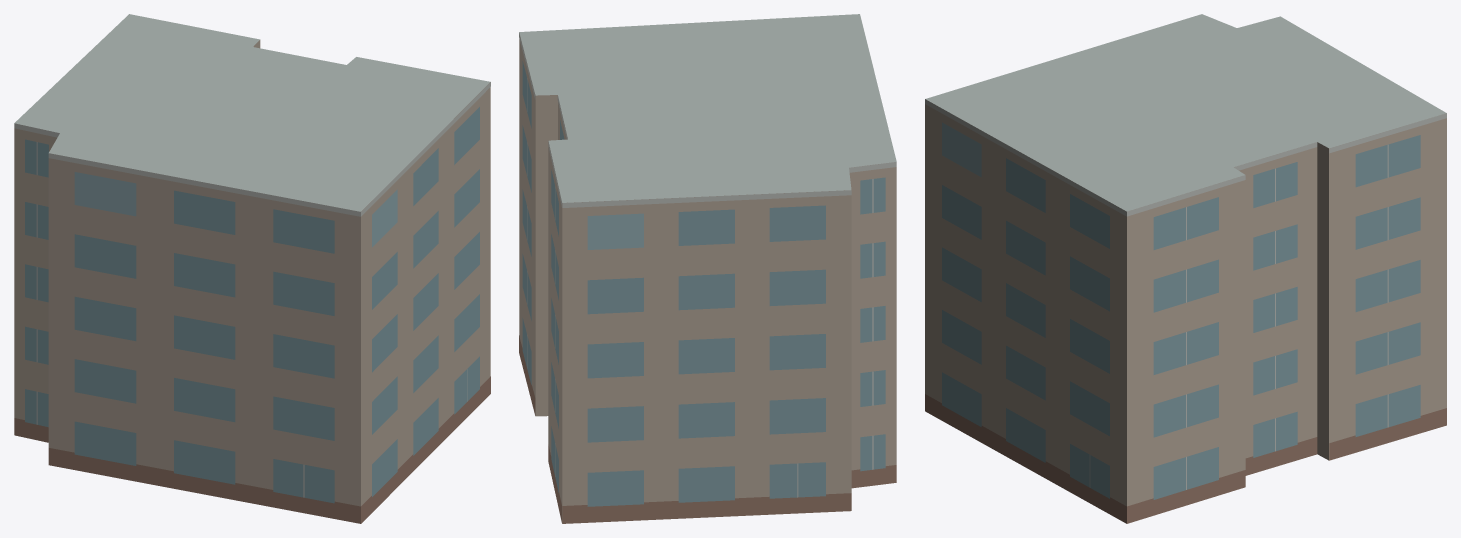
Rendered from survey-upis-32712672.glb.
The picture shows the model from 3 angles, left to right: view 1: azimuth 30°, elevation 25°; view 2: azimuth 150°, elevation 25°; view 3: azimuth 270°, elevation 25°; orthographic projection. The views are drawn at different scales.
Parts seen in each view (by area): view 1: survey-upis-32712672.tmp; view 2: survey-upis-32712672.tmp; view 3: survey-upis-32712672.tmp.
Part boxes in pixels (<box>): survey-upis-32712672.tmp: <box>14,14,490,523</box>; survey-upis-32712672.tmp: <box>519,14,896,523</box>; survey-upis-32712672.tmp: <box>925,14,1446,523</box>.
Bounding box in the file's own units: 20.64 × 15.2 × 23.02.
